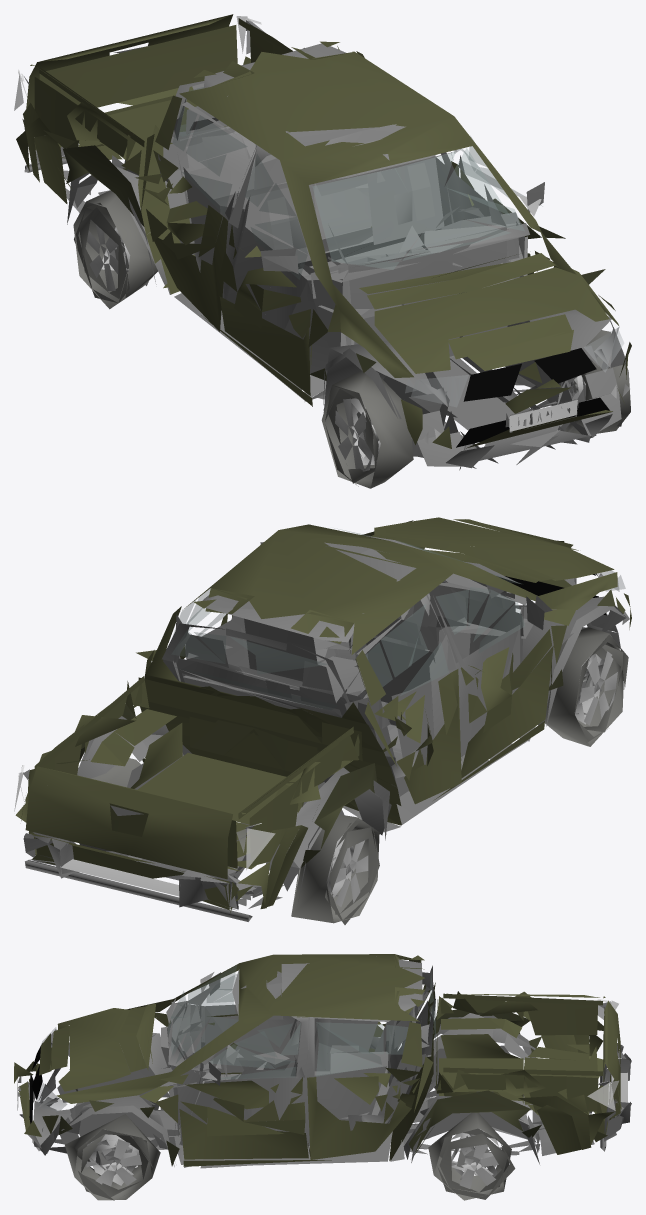
3 renders of one model, top to bottom at view 1: azimuth 30°, elevation 25°; view 2: azimuth 150°, elevation 25°; view 3: azimuth 270°, elevation 25°, orthographic. The views are drawn at different scales.
Parts seen in each view (by area): view 1: Body; view 2: Body; view 3: Body.
Part boxes in pixels (x1,y1,x2,y2): Body: (14, 14, 631, 488); Body: (14, 517, 631, 924); Body: (14, 954, 631, 1200).
Size of the model in its own units: 1.99 by 1.65 by 5.02.
